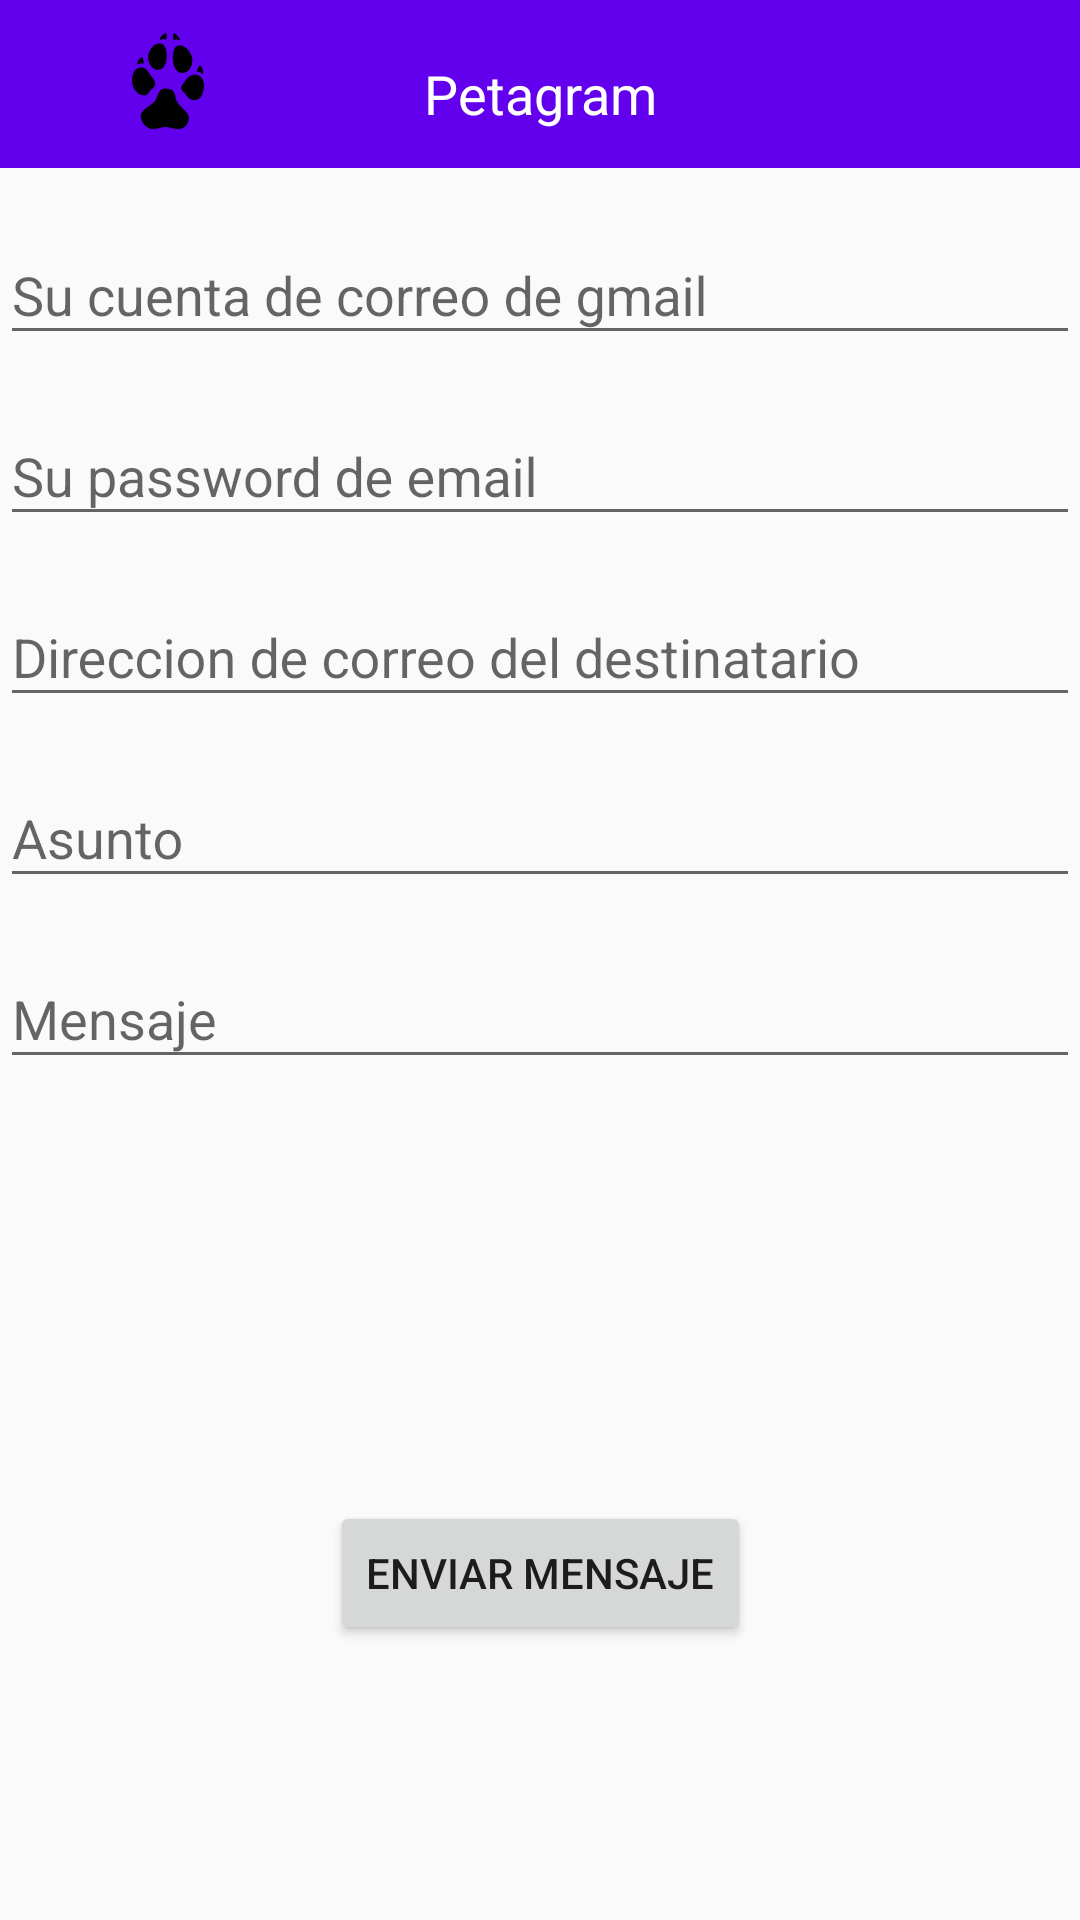

Point at icon controls on the screen. Image size 1080 × 1920, points as (x=x, y=y).
dog paw: (x=168, y=81)
